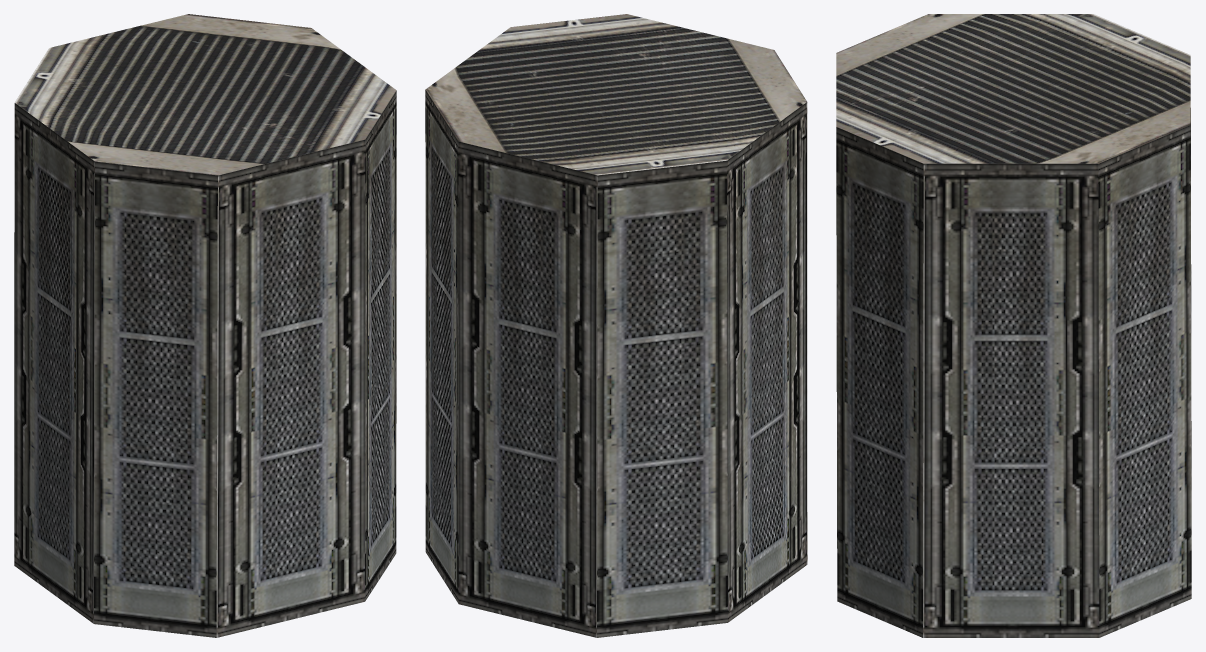
The model's file is ARC_CubeMetalCorner_1x1'5m.FBX.
3 views of the same model, side by side, from view 1: azimuth 30°, elevation 25°; view 2: azimuth 150°, elevation 25°; view 3: azimuth 270°, elevation 25° (orthographic). The views are drawn at different scales.
Parts seen in each view (by area): view 1: ARC_CubeMetalCorner_1x1'5m; view 2: ARC_CubeMetalCorner_1x1'5m; view 3: ARC_CubeMetalCorner_1x1'5m.
Part boxes in pixels (box(x1,y1,x2,y2)): ARC_CubeMetalCorner_1x1'5m: box(14, 14, 396, 637); ARC_CubeMetalCorner_1x1'5m: box(425, 14, 807, 637); ARC_CubeMetalCorner_1x1'5m: box(836, 14, 1191, 637).
Bounding box in the file's own units: 102 × 150 × 102.
Materials: 1 (1 with a texture image).
